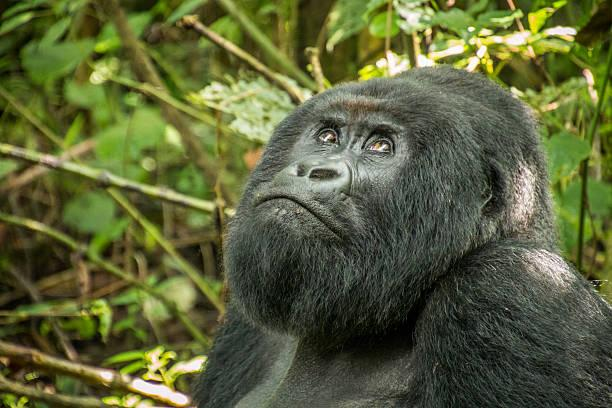goriile_montagne: (190, 37, 612, 408)
